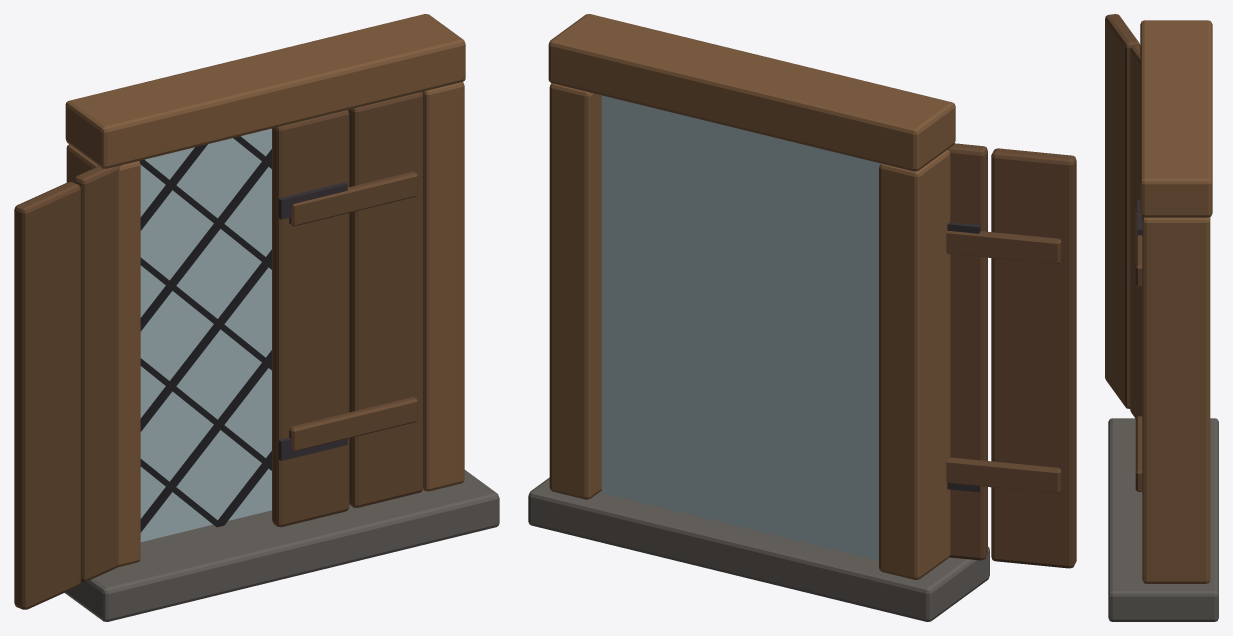
The model's file is SM_Window_Cottage_01.fbx.
3 renders of one model, left to right at view 1: azimuth 30°, elevation 25°; view 2: azimuth 150°, elevation 25°; view 3: azimuth 270°, elevation 25°, orthographic. The views are drawn at different scales.
Parts seen in each view (by area): view 1: SM_Window_Cottage_01_Glass, SM_Window_Cottage_01_Lintel, SM_Window_Cottage_01_ShutterL_Plank2, SM_Window_Cottage_01_ShutterR_Plank1, SM_Window_Cottage_01_ShutterR_Plank2, SM_Window_Cottage_01_Sill, SM_Window_Cottage_01_JambR, SM_Window_Cottage_01_ShutterL_Plank1, SM_Window_Cottage_01_Frame, SM_Window_Cottage_01_ShutterR_Ledge0, SM_Window_Cottage_01_ShutterR_Ledge1, SM_Window_Cottage_01_DiagA2 (+10 smaller); view 2: SM_Window_Cottage_01_Glass, SM_Window_Cottage_01_ShutterL_Plank2, SM_Window_Cottage_01_Lintel, SM_Window_Cottage_01_Frame, SM_Window_Cottage_01_Sill, SM_Window_Cottage_01_JambR, SM_Window_Cottage_01_ShutterL_Plank1, SM_Window_Cottage_01_ShutterL_Ledge0, SM_Window_Cottage_01_ShutterL_Ledge1; view 3: SM_Window_Cottage_01_JambR, SM_Window_Cottage_01_Lintel, SM_Window_Cottage_01_Sill, SM_Window_Cottage_01_ShutterL_Plank2, SM_Window_Cottage_01_ShutterL_Plank1, SM_Window_Cottage_01_ShutterR_Ledge0, SM_Window_Cottage_01_ShutterR_Ledge1, SM_Window_Cottage_01_ShutterR_Strap0.76.
Part boxes in pixels (x1,y1,x2,y2): SM_Window_Cottage_01_Glass: [140, 128, 271, 541]; SM_Window_Cottage_01_Lintel: [65, 14, 465, 168]; SM_Window_Cottage_01_ShutterL_Plank2: [14, 182, 80, 609]; SM_Window_Cottage_01_ShutterR_Plank1: [272, 110, 349, 527]; SM_Window_Cottage_01_ShutterR_Plank2: [348, 92, 422, 507]; SM_Window_Cottage_01_Sill: [64, 470, 499, 621]; SM_Window_Cottage_01_JambR: [422, 82, 464, 491]; SM_Window_Cottage_01_ShutterL_Plank1: [74, 165, 121, 581]; SM_Window_Cottage_01_Frame: [66, 144, 140, 567]; SM_Window_Cottage_01_ShutterR_Ledge0: [289, 397, 417, 451]; SM_Window_Cottage_01_ShutterR_Ledge1: [289, 171, 417, 226]; SM_Window_Cottage_01_DiagA2: [140, 249, 271, 431]; SM_Window_Cottage_01_Glass: [601, 95, 880, 560]; SM_Window_Cottage_01_ShutterL_Plank2: [991, 148, 1076, 568]; SM_Window_Cottage_01_Lintel: [548, 14, 955, 171]; SM_Window_Cottage_01_Frame: [879, 150, 950, 579]; SM_Window_Cottage_01_Sill: [528, 477, 989, 621]; SM_Window_Cottage_01_JambR: [549, 83, 601, 499]; SM_Window_Cottage_01_ShutterL_Plank1: [947, 143, 987, 560]; SM_Window_Cottage_01_ShutterL_Ledge0: [946, 457, 1061, 493]; SM_Window_Cottage_01_ShutterL_Ledge1: [946, 230, 1061, 264]; SM_Window_Cottage_01_JambR: [1142, 217, 1210, 583]; SM_Window_Cottage_01_Lintel: [1140, 20, 1212, 217]; SM_Window_Cottage_01_Sill: [1108, 418, 1218, 621]; SM_Window_Cottage_01_ShutterL_Plank2: [1105, 14, 1139, 408]; SM_Window_Cottage_01_ShutterL_Plank1: [1130, 45, 1142, 418]; SM_Window_Cottage_01_ShutterR_Ledge0: [1135, 416, 1142, 491]; SM_Window_Cottage_01_ShutterR_Ledge1: [1135, 212, 1142, 286]; SM_Window_Cottage_01_ShutterR_Strap0.76: [1137, 200, 1142, 235].
Bounding box in the file's own units: 1.19 × 1.13 × 0.2678.
